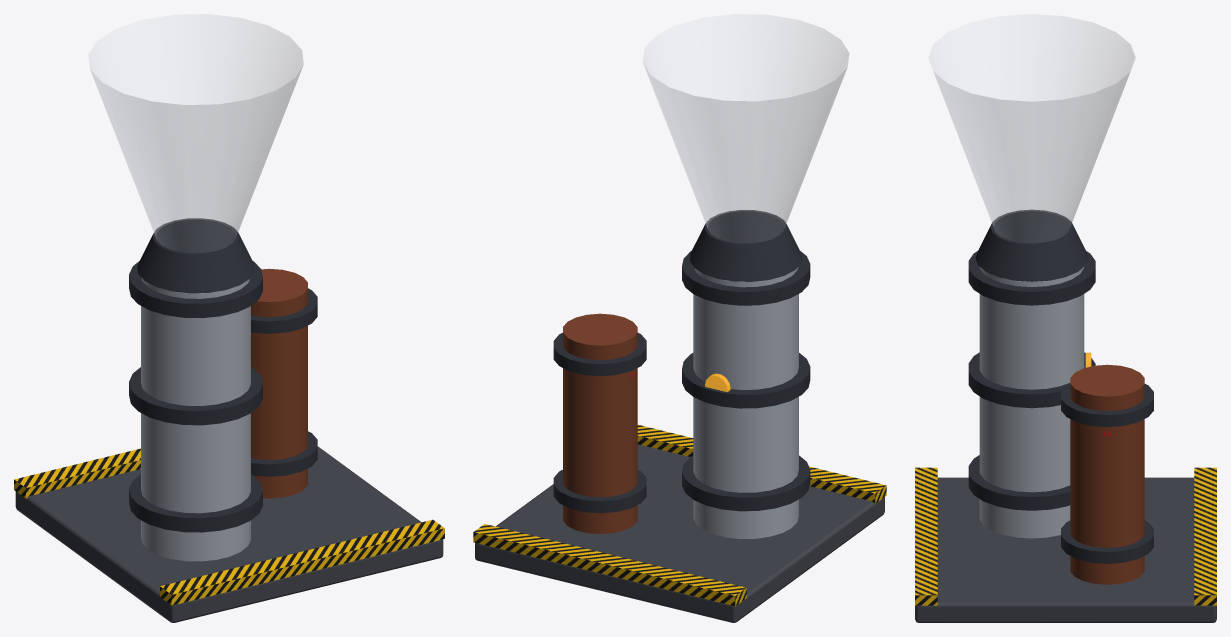
Rendered from obstacle_steam.glb.
The picture shows the model from 3 angles, left to right: view 1: azimuth 30°, elevation 25°; view 2: azimuth 150°, elevation 25°; view 3: azimuth 270°, elevation 25°; orthographic projection. The views are drawn at different scales.
Parts seen in each view (by area): view 1: SteamVent; view 2: SteamVent; view 3: SteamVent.
Boxes of the visible parts, <box> form: SteamVent: <box>14,14,444,622</box>; SteamVent: <box>473,14,886,622</box>; SteamVent: <box>915,14,1216,622</box>.
Size of the model in its own units: 1.65 by 2.8 by 1.6.
5 materials, 1 textured.
